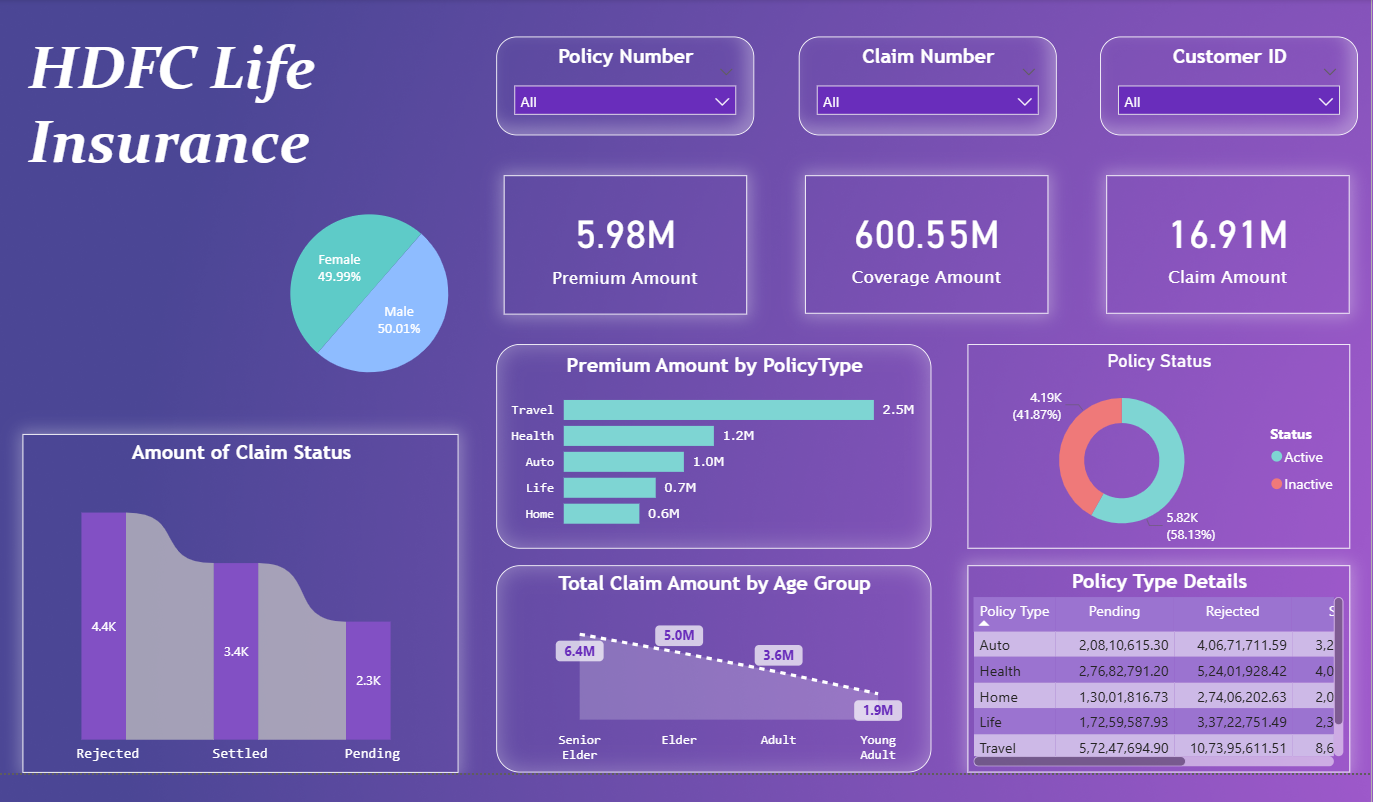

What the dashboard file says about the page in this screenshot:
{"tool":"powerbi","page":{"name":"Page 1","canvas":[1280,720],"ordinal":0},"visuals":[{"type":"textbox","box":[25.6,24.4,350,204.7],"z":0},{"type":"slicer","title":"Policy Number","fields":{"Values":["InsuranceData.PolicyNumber"]},"box":[465.9,35.5,239.7,91.7],"z":1000},{"type":"slicer","title":"Claim Number","fields":{"Values":["InsuranceData.ClaimNumber"]},"box":[747.2,35.5,239.7,91.7],"z":2000},{"type":"slicer","title":"Customer ID","fields":{"Values":["InsuranceData.CustomerID"]},"box":[1028.4,35.5,239.7,91.7],"z":3000},{"type":"card","fields":{"Values":["Sum(InsuranceData.PremiumAmount)"]},"box":[473.2,163.9,226.2,129.6],"z":4000},{"type":"card","fields":{"Values":["Sum(InsuranceData.ClaimAmount)"]},"box":[1033.7,164,226.7,129.1],"z":5000},{"type":"card","fields":{"Values":["Sum(InsuranceData.CoverageAmount)"]},"box":[753.5,164,226.7,129.1],"z":6000},{"type":"pieChart","title":"Gender ","fields":{"Category":["InsuranceData.Gender"],"Y":["CountNonNull(InsuranceData.Gender)"]},"box":[215.2,163.9,266.6,220.1],"z":7000},{"type":"ribbonChart","title":"Amount of Claim Status","fields":{"Category":["InsuranceData.ClaimStatus"],"Y":["CountNonNull(InsuranceData.ClaimStatus)"]},"box":[25.6,404.7,405.8,315.1],"z":8000},{"type":"barChart","title":"Premium Amount by PolicyType","fields":{"Category":["InsuranceData.PolicyType"],"Y":["Sum(InsuranceData.PremiumAmount)"]},"box":[466.3,320.9,404.7,190.7],"z":9000},{"type":"lineChart","title":"Total Claim Amount by Age Group","fields":{"Category":["InsuranceData.Age Group"],"Y":["Sum(InsuranceData.ClaimAmount)"]},"box":[466.3,526.7,404.7,193],"z":10000},{"type":"donutChart","title":"Policy Status","fields":{"Category":["InsuranceData.Active/Inactive"],"Y":["CountNonNull(InsuranceData.Active/Inactive)"]},"box":[904.7,320.9,355.8,190.7],"z":11000},{"type":"pivotTable","title":"Policy Type Details","fields":{"Rows":["InsuranceData.PolicyType"],"Columns":["InsuranceData.ClaimStatus"],"Values":["Sum(InsuranceData.CoverageAmount)"]},"box":[904.7,526.7,355.8,193],"z":12000}]}

Visuals, with their boxes in screenshot pixels (x1, y1, x2, y2):
textbox: crop(34, 29, 404, 246)
"Policy Number" slicer: crop(500, 41, 754, 138)
"Claim Number" slicer: crop(798, 41, 1051, 138)
"Customer ID" slicer: crop(1095, 41, 1349, 138)
card - Sum(InsuranceData.PremiumAmount): crop(508, 177, 747, 314)
card - Sum(InsuranceData.ClaimAmount): crop(1101, 177, 1340, 314)
card - Sum(InsuranceData.CoverageAmount): crop(804, 177, 1044, 314)
"Gender " pieChart: crop(235, 177, 517, 410)
"Amount of Claim Status" ribbonChart: crop(34, 432, 463, 765)
"Premium Amount by PolicyType" barChart: crop(500, 343, 929, 545)
"Total Claim Amount by Age Group" lineChart: crop(500, 561, 929, 765)
"Policy Status" donutChart: crop(964, 343, 1341, 545)
"Policy Type Details" pivotTable: crop(964, 561, 1341, 765)
